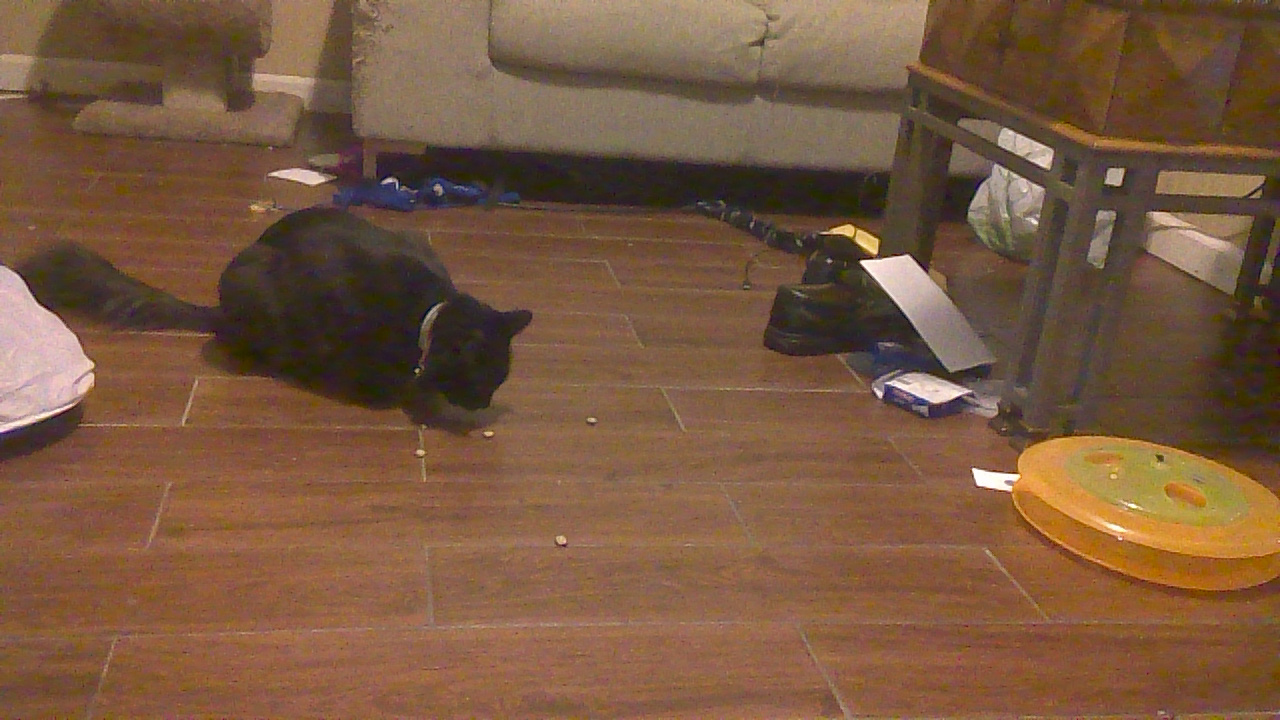cat: (1, 198, 550, 435)
